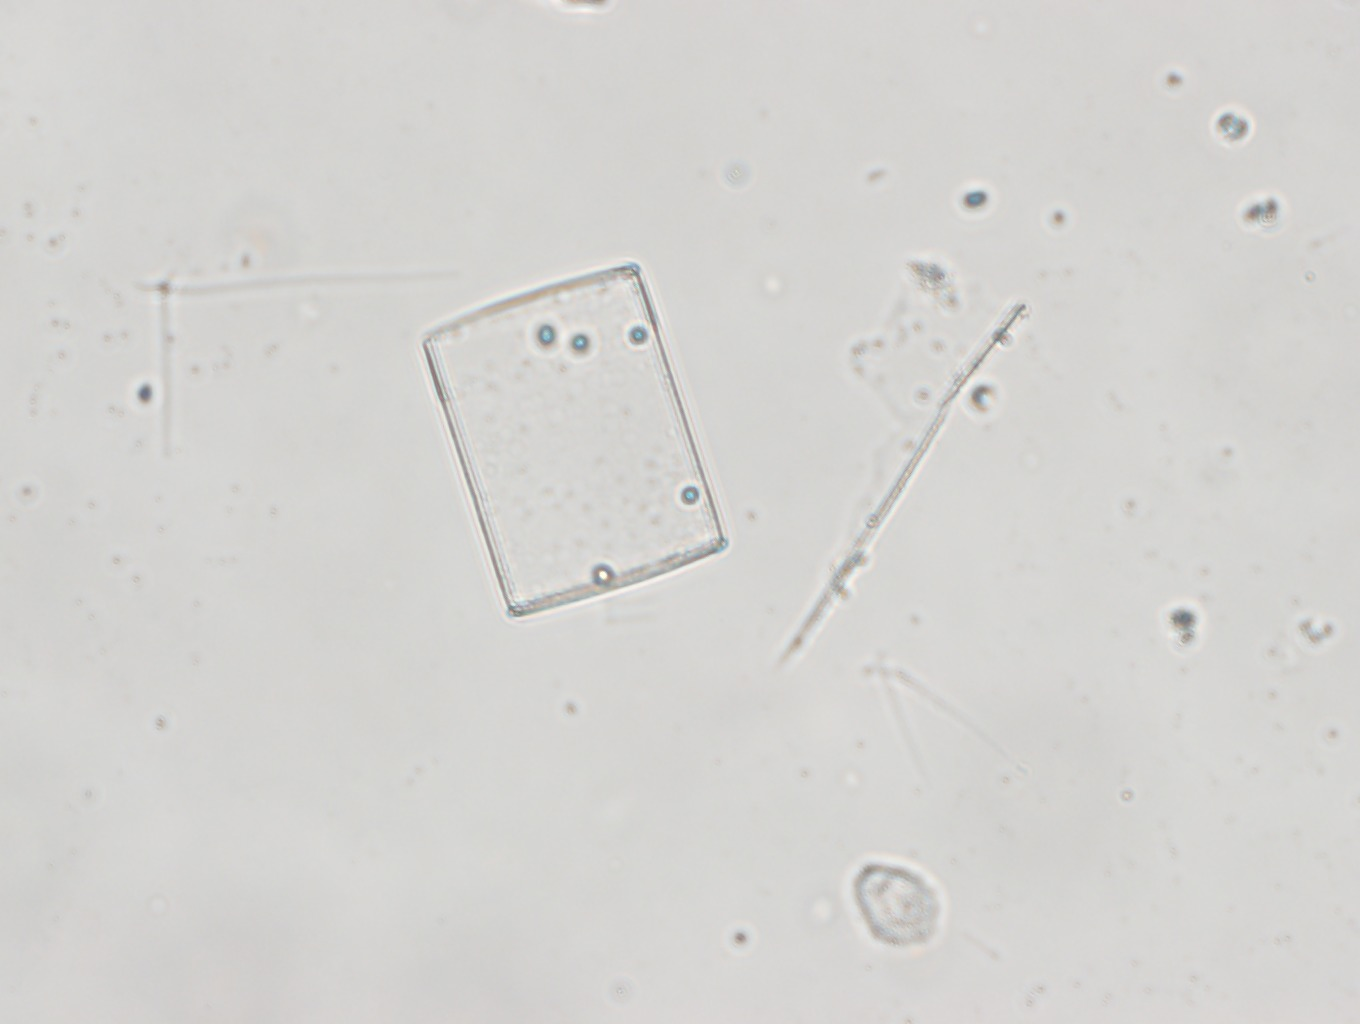guinardia flaccida: (415, 257, 729, 628)
